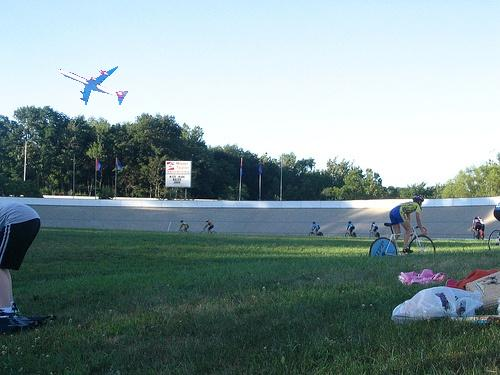tampered: (59, 67, 128, 105)
